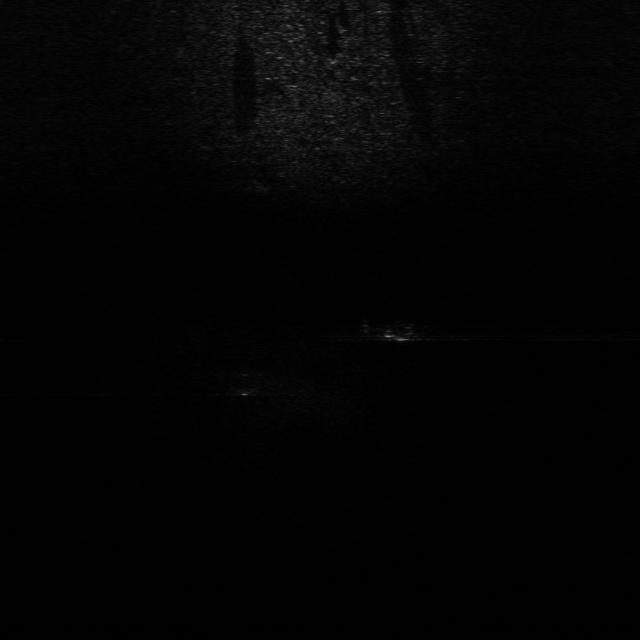ball: (226, 368, 264, 399)
human body: (340, 311, 446, 343)
